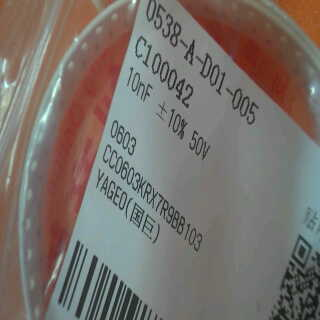10nF: (122, 66, 154, 103)
